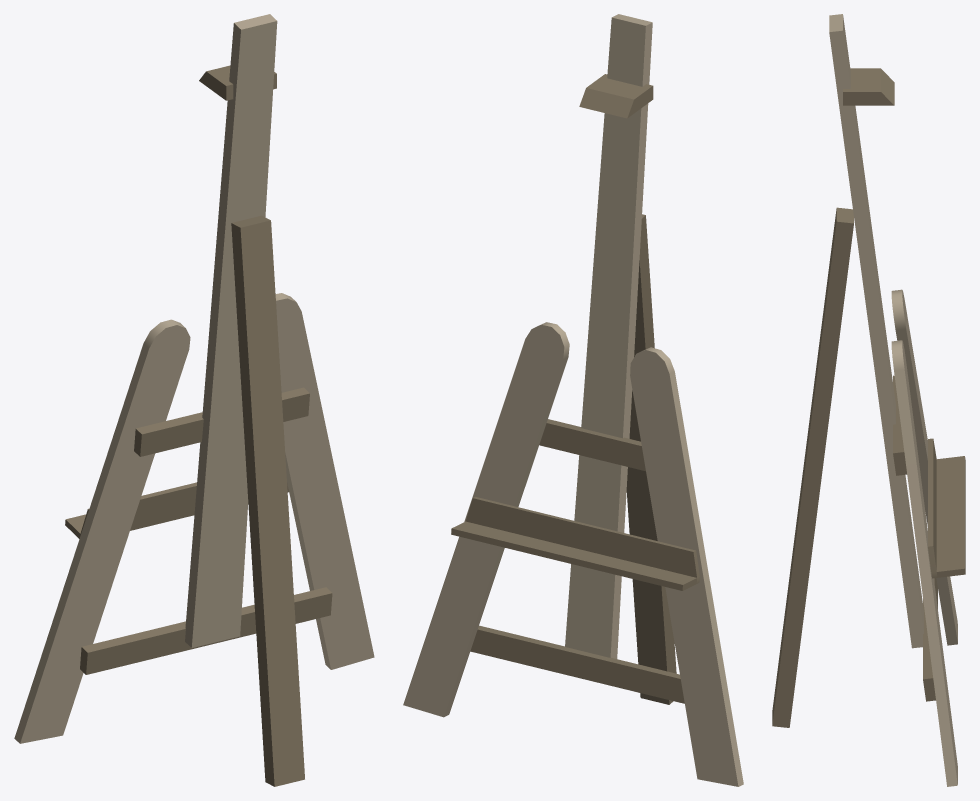
The model's file is easel.fbx.
3 renders of one model, left to right at view 1: azimuth 30°, elevation 25°; view 2: azimuth 150°, elevation 25°; view 3: azimuth 270°, elevation 25°, orthographic. The views are drawn at different scales.
Visible parts, largest first — view 1: easel; view 2: easel; view 3: easel.
Part boxes in pixels (x1=…): easel: x1=14, y1=14, x2=374, y2=786; easel: x1=403, y1=14, x2=743, y2=786; easel: x1=772, y1=14, x2=965, y2=786.
Bounding box in the file's own units: 132 × 263 × 66.09.
